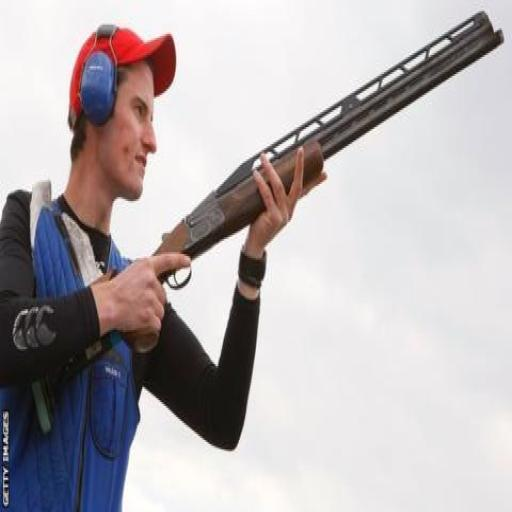shooting: (0, 21, 329, 510)
